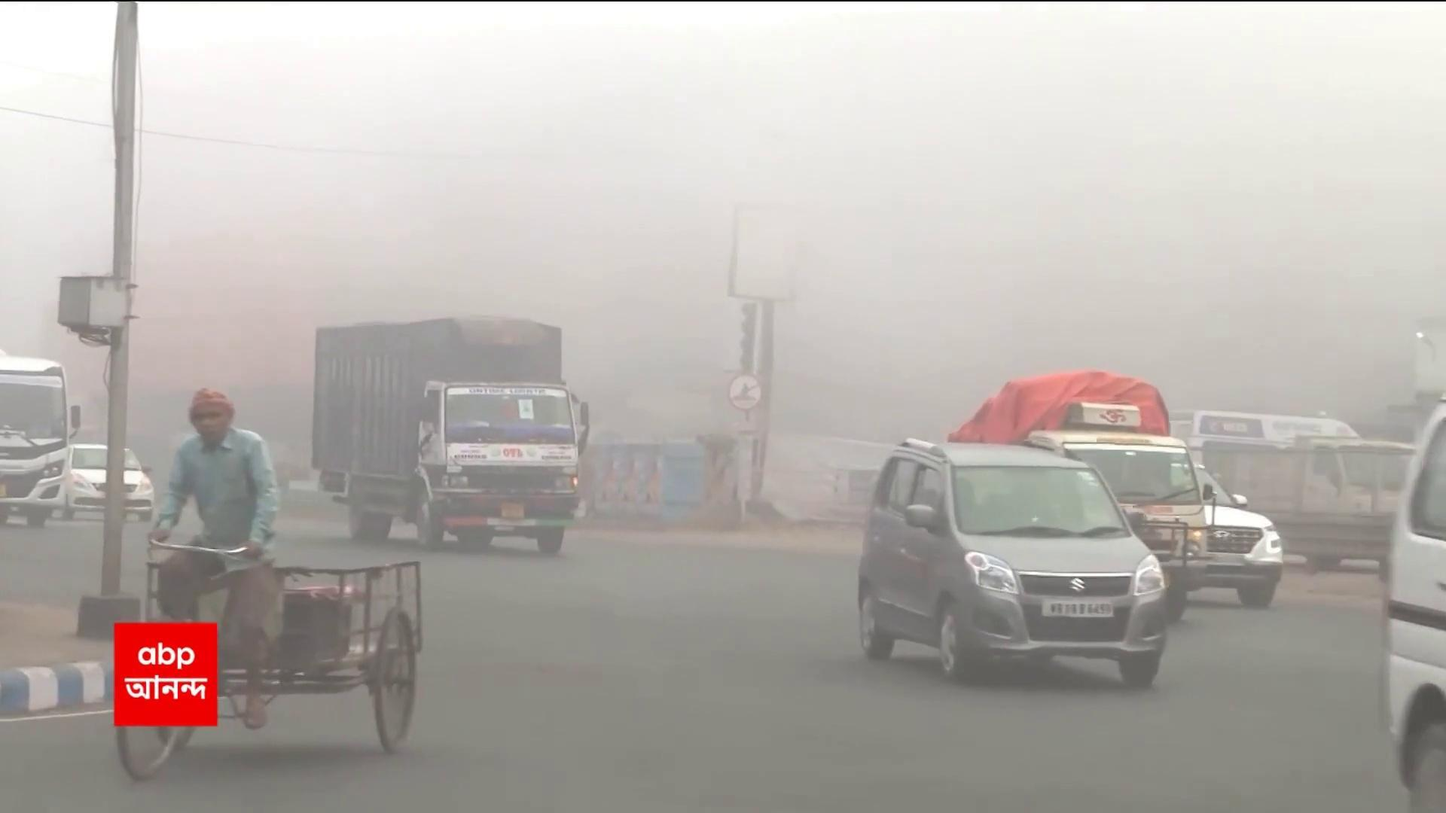Car: (857, 435, 1169, 688)
Truck: (964, 370, 1282, 604), (309, 312, 591, 552)
